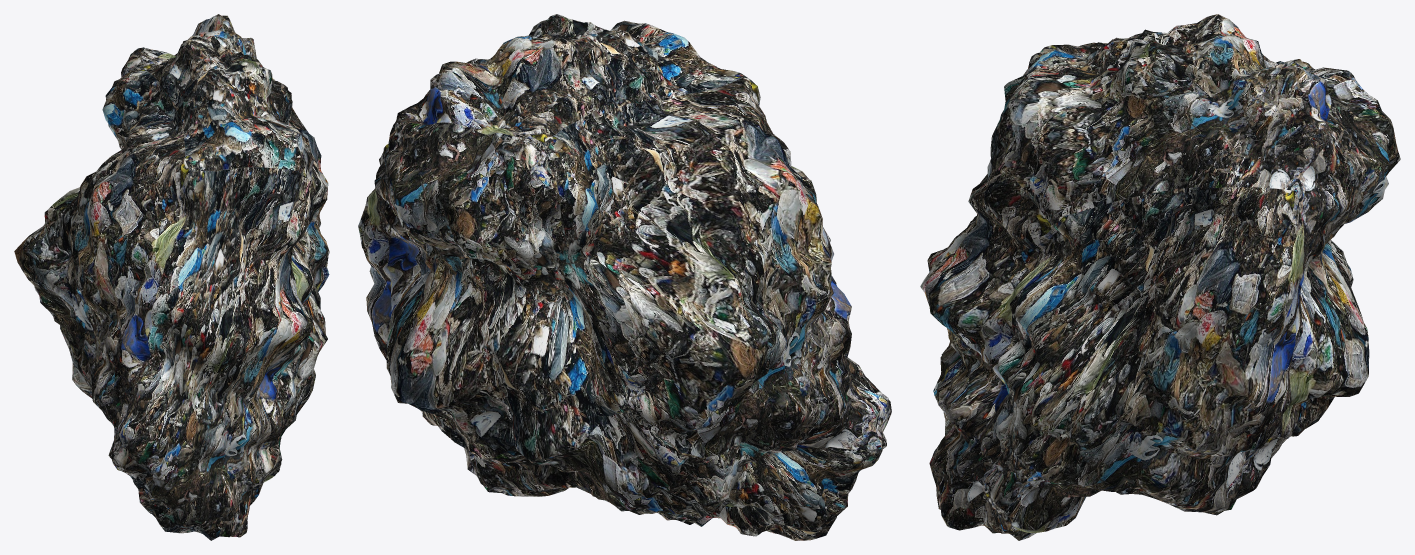
File: asteroid_medium_1.fbx
3 renders of one model, left to right at view 1: azimuth 30°, elevation 25°; view 2: azimuth 150°, elevation 25°; view 3: azimuth 270°, elevation 25°, orthographic. The views are drawn at different scales.
Parts seen in each view (by area): view 1: Cube; view 2: Cube; view 3: Cube.
Boxes of the visible parts, x1,y1,x2,y2 form: Cube: (14, 14, 329, 540); Cube: (358, 14, 891, 540); Cube: (920, 14, 1400, 540).
Size of the model in its own units: 2.86 by 3.79 by 3.01.
Materials: 1 (1 with a texture image).
